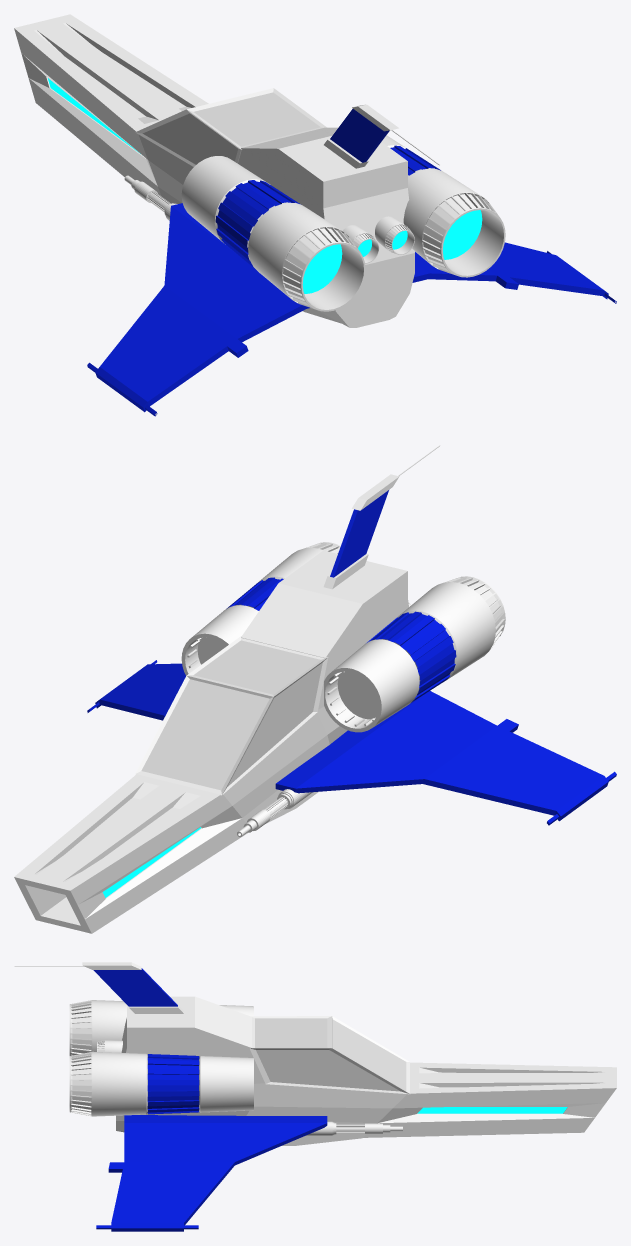
File: spaceship.glb
3 views of the same model, one above another, from view 1: azimuth 30°, elevation 25°; view 2: azimuth 150°, elevation 25°; view 3: azimuth 270°, elevation 25° (orthographic). The views are drawn at different scales.
Visible parts, largest first — view 1: Fuselage, Wings, Engine, Cockpit windows, Engine turbine, Engine intake, Top aileron, Engine exhaust L, Cockpit canopy, Engines center, Guns; view 2: Fuselage, Wings, Cockpit windows, Engine intake, Engine, Engine turbine, Cockpit canopy, Top aileron, Guns; view 3: Fuselage, Wings, Cockpit windows, Engine, Engine intake, Engine turbine, Top aileron, Cockpit canopy, Nose lights, Guns.
Part boxes in pixels (x1,y1,x2,y2): Fuselage: (14,14,414,327); Wings: (87,203,616,416); Engine: (215,145,505,311); Cockpit windows: (143,92,320,164); Engine turbine: (215,145,440,269); Engine intake: (181,135,404,244); Top aileron: (324,104,439,168); Engine exhaust L: (302,210,482,293); Cockpit canopy: (135,88,326,166); Engines center: (343,216,414,263); Guns: (124,175,177,220); Fuselage: (14,550,408,933); Wings: (87,660,616,825); Cockpit windows: (141,640,322,790); Engine intake: (181,605,419,732); Engine: (229,542,505,699); Engine turbine: (226,577,456,702); Cockpit canopy: (135,636,328,795); Top aileron: (323,445,440,589); Guns: (237,789,312,837); Fuselage: (116,996,616,1145); Wings: (96,1115,327,1231); Cockpit windows: (255,1018,406,1091); Engine: (69,1000,200,1116); Engine intake: (200,1005,253,1112); Engine turbine: (147,1054,199,1114); Top aileron: (14,962,183,1013); Cockpit canopy: (249,1016,410,1094); Nose lights: (417,1107,567,1113); Guns: (305,1121,402,1135).
Size of the model in its own units: 16.53 by 8.16 by 24.47.
